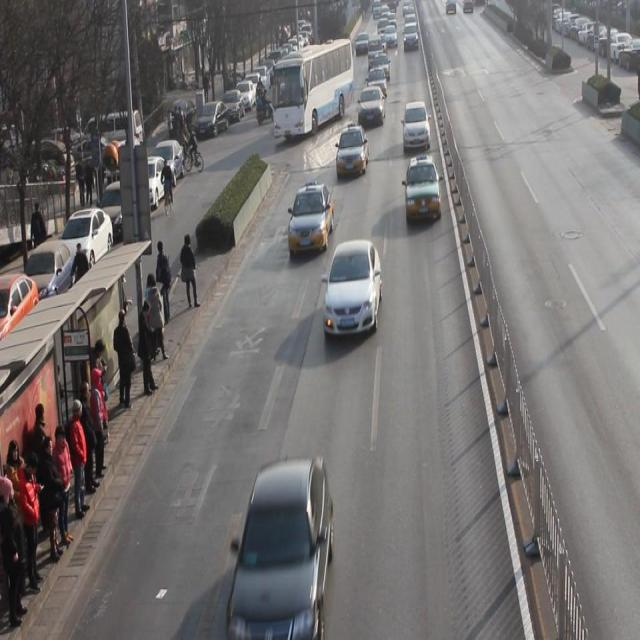car: (228, 455, 333, 640), (324, 239, 382, 338), (288, 185, 335, 254), (404, 158, 442, 225), (335, 127, 369, 178), (403, 101, 431, 151), (358, 86, 386, 127), (367, 68, 388, 101), (372, 54, 390, 83)
van: (273, 40, 353, 146)
